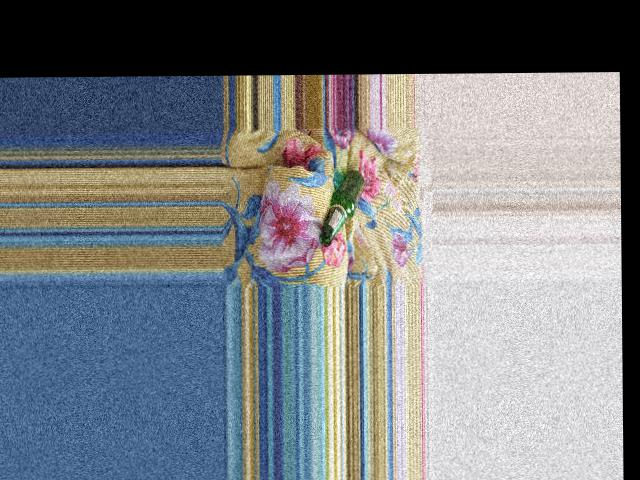beer: (318, 170, 364, 246)
